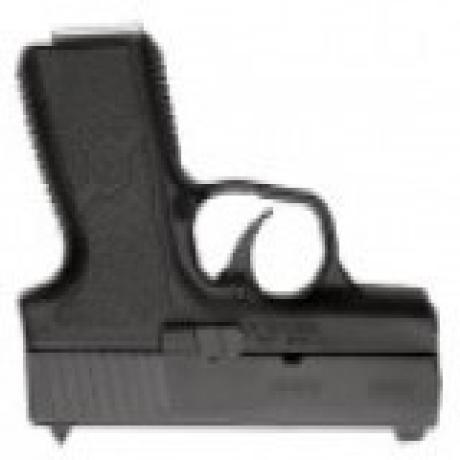weapon: (0, 26, 446, 448)
